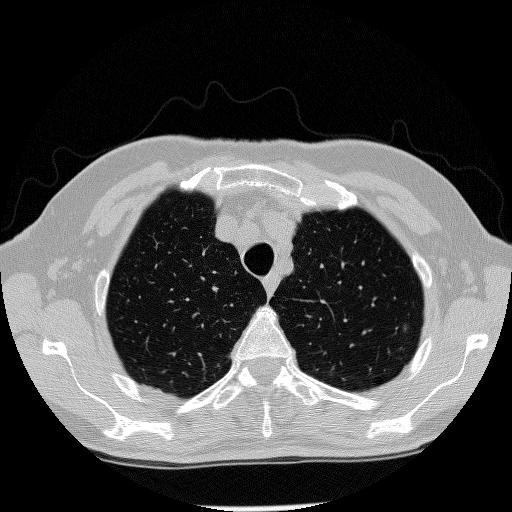nodule: (401, 322, 411, 332)
